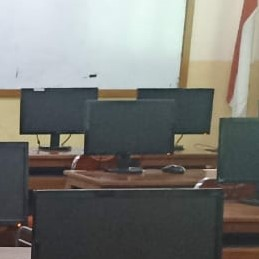monitor: (1, 1, 190, 94), (30, 187, 224, 255), (83, 99, 177, 157), (19, 88, 99, 135), (137, 88, 215, 136), (216, 117, 259, 184), (0, 141, 30, 224)
